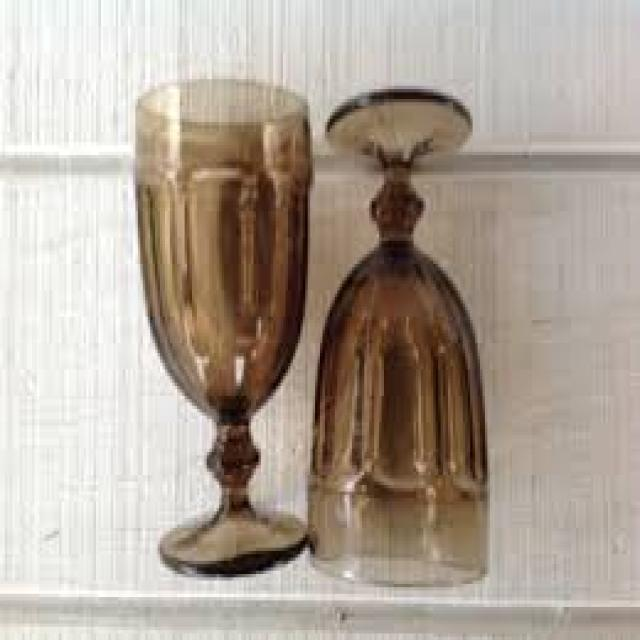glass: (308, 86, 485, 581), (133, 76, 308, 574)
